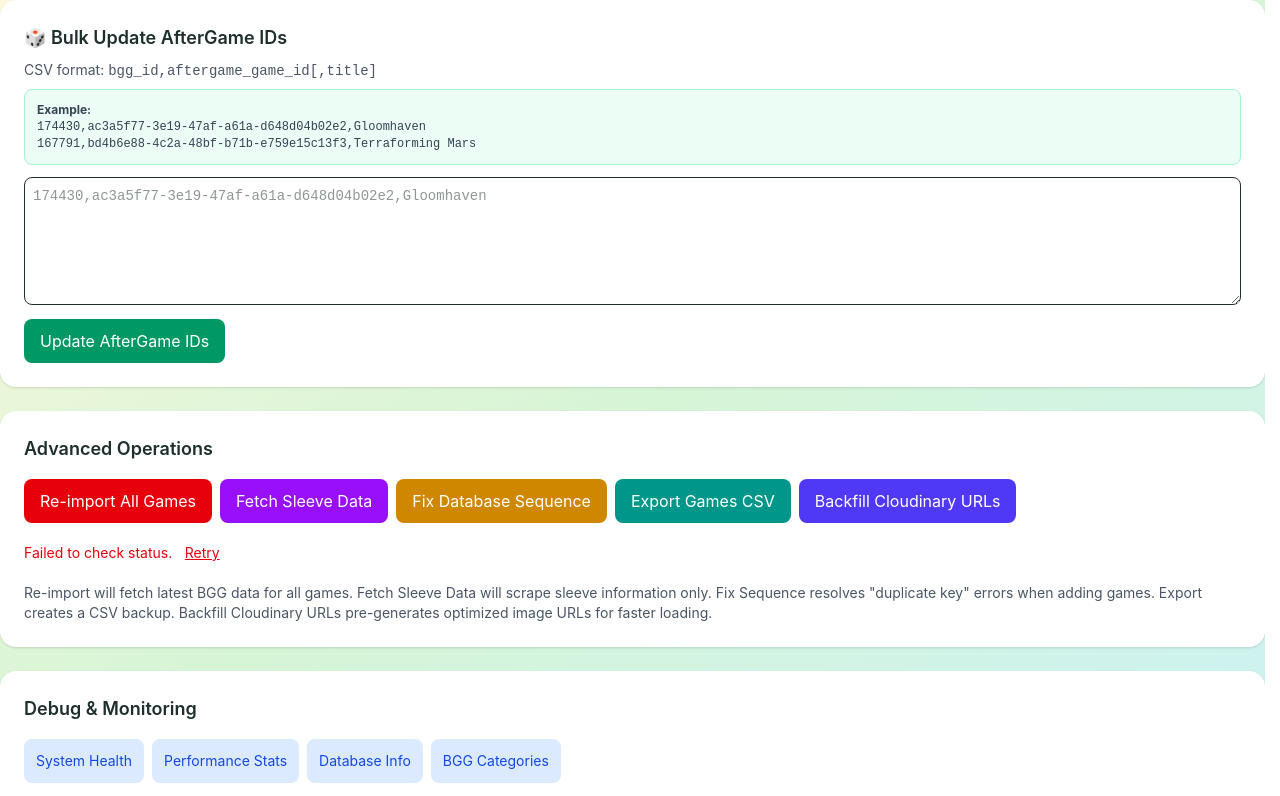
Test: AdminToolsPanel › Bulk AfterGame IDs Update › shows problems from the server inline
The width and height of the screenshot is (1280, 796).
Step 1. Type "5,x" into the text box → (632, 241), box [24,177,1241,305]
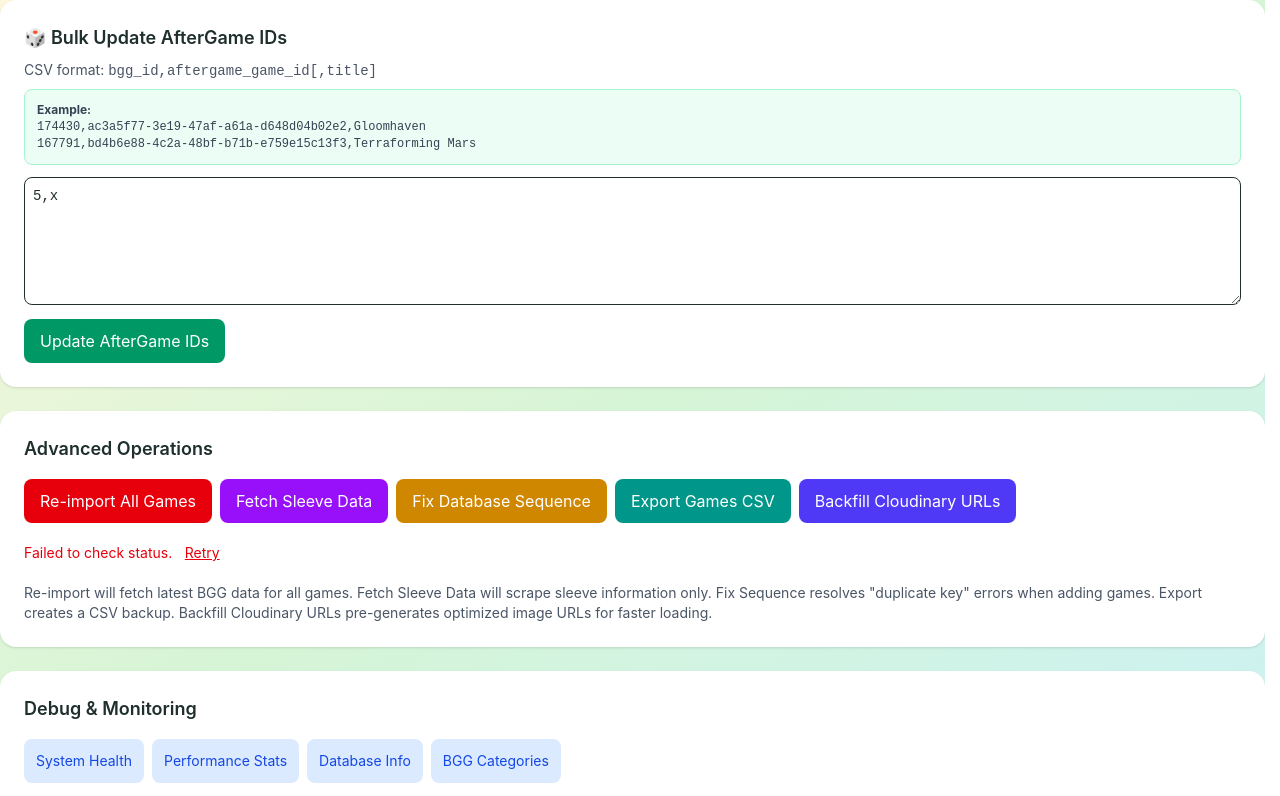
Step 2. Click the button "Update AfterGame IDs" → (125, 341), box [24,319,225,363]
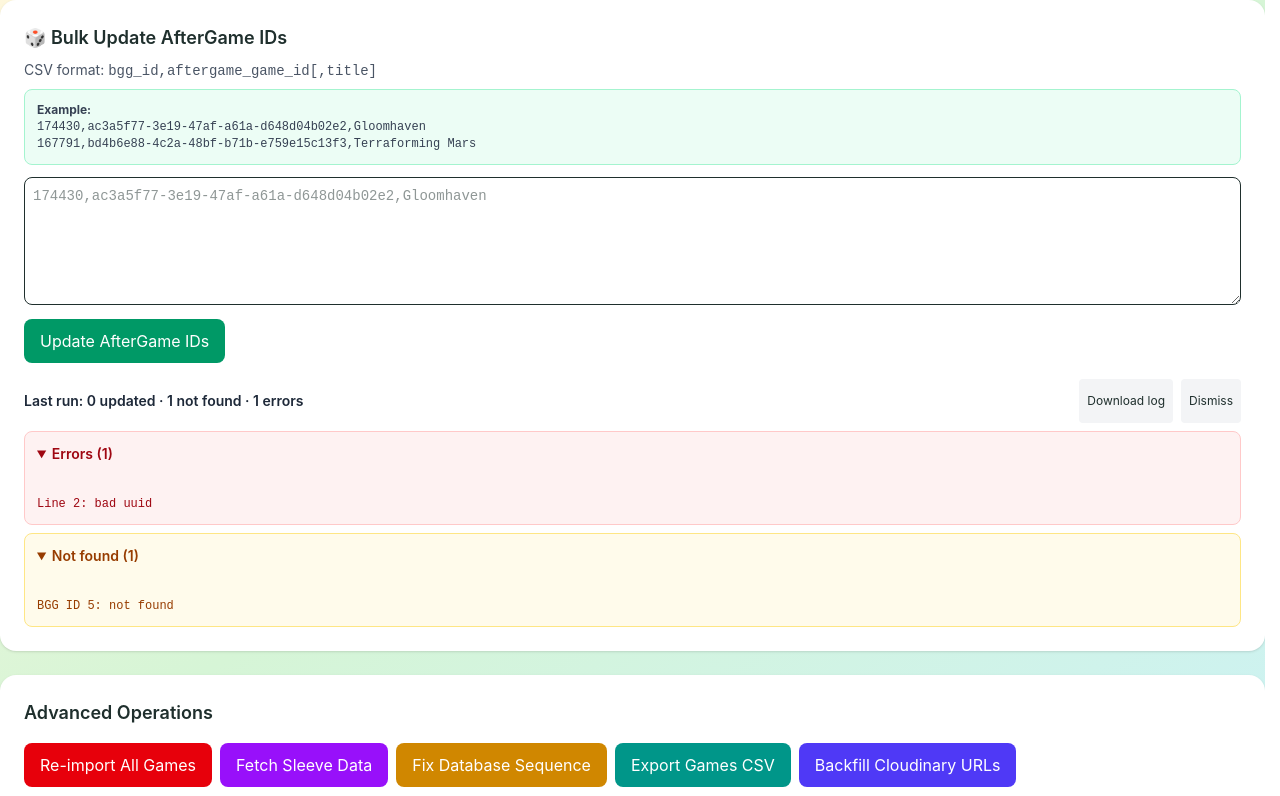
Now the list item "Line 2: bad uuid" is shown, box [37,497,152,511]
Now the list item "BGG ID 5: not found" is shown, box [37,599,174,613]
